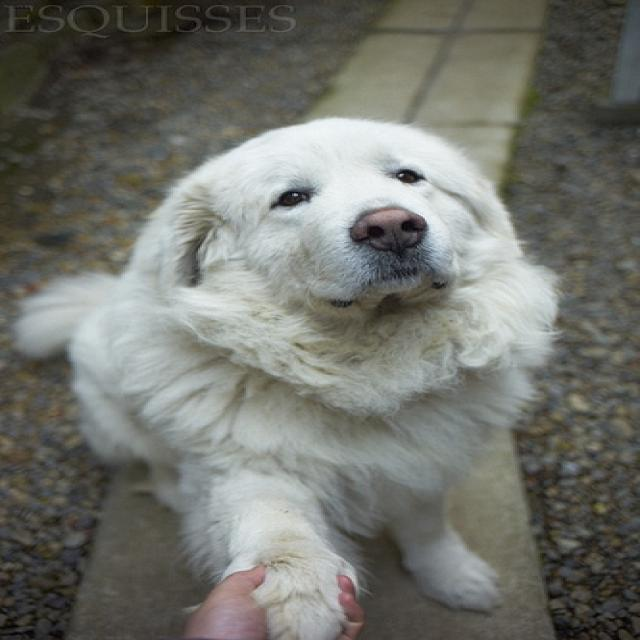dog-great_pyrenees: (2, 108, 567, 637)
